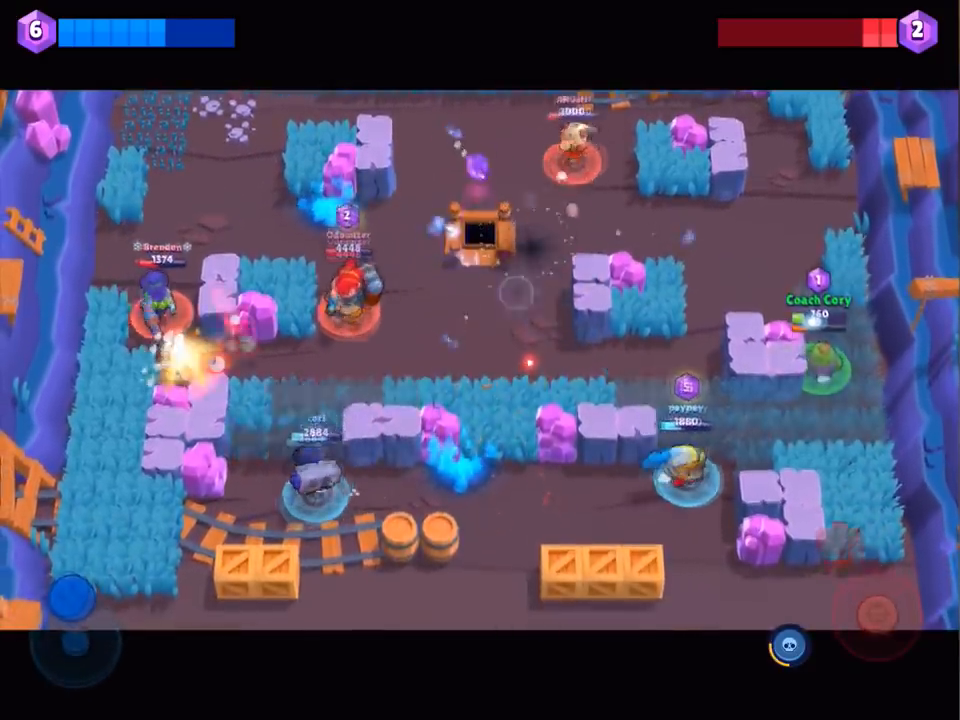move_stick: (53, 576, 94, 615)
red: (316, 238, 389, 337), (537, 103, 610, 188), (129, 251, 201, 334)
